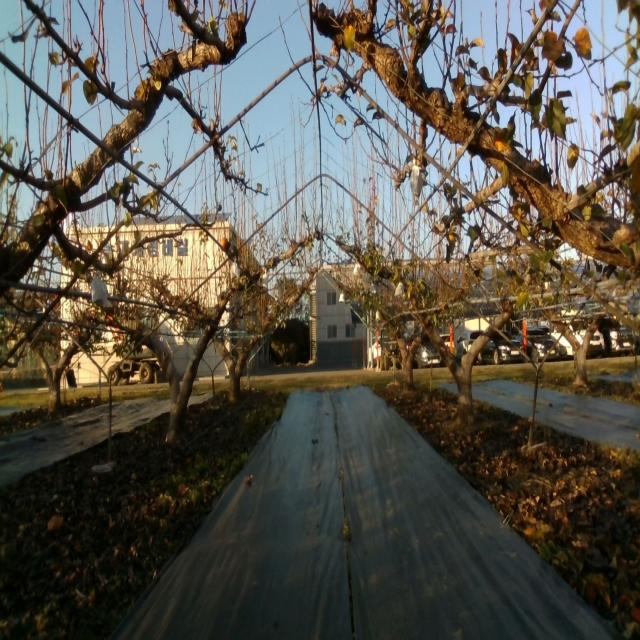pearbags: (90, 270, 108, 310), (410, 159, 422, 199), (230, 258, 240, 280)
